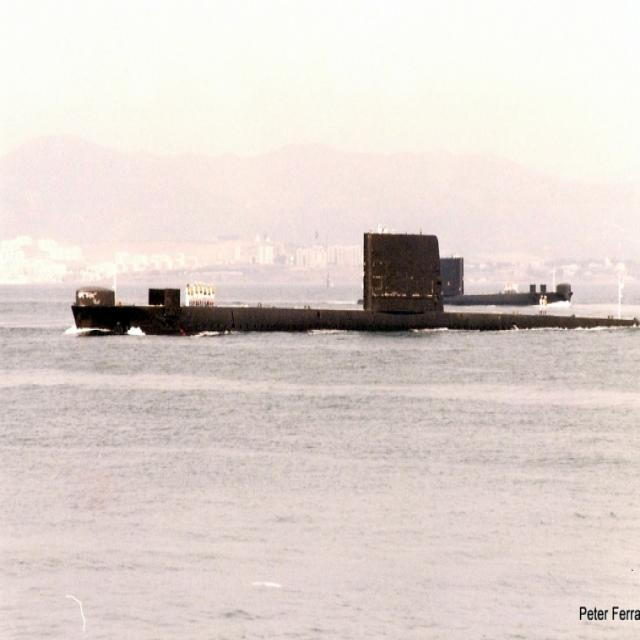submarine: (70, 236, 640, 332), (356, 257, 584, 303)
